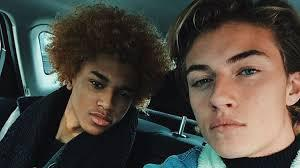face: (186, 22, 277, 159), (74, 55, 133, 135)
